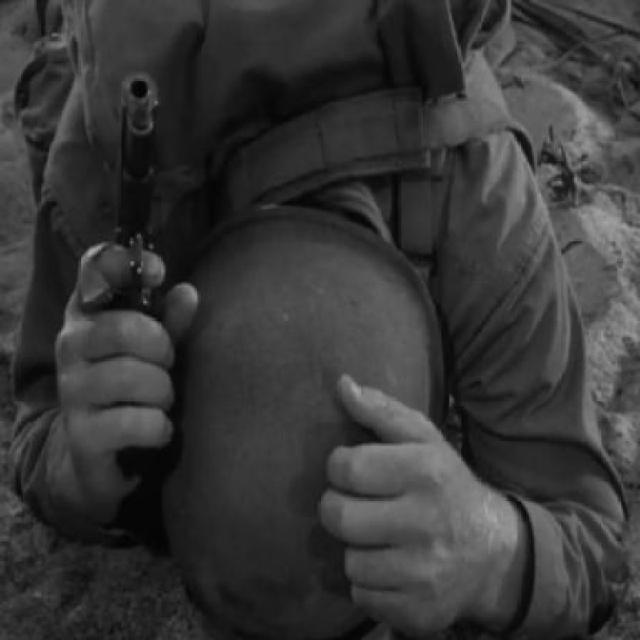gun: (90, 35, 172, 323)
